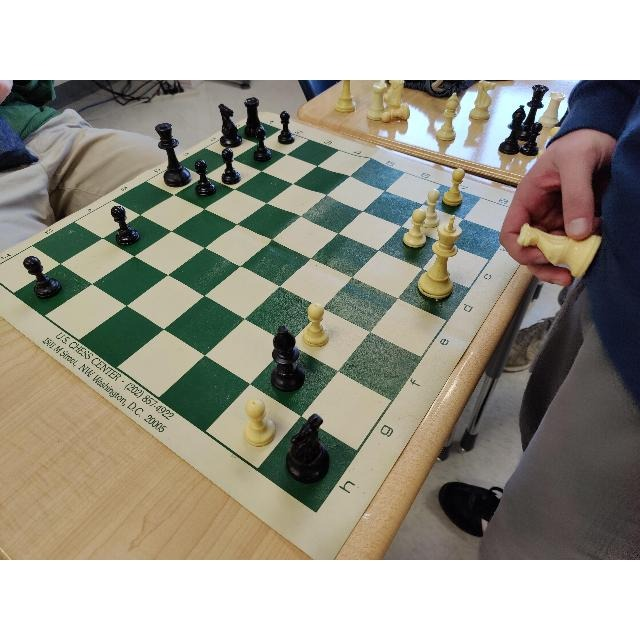black-bishop: (271, 325, 305, 392)
black-king: (154, 121, 191, 186)
black-knight: (286, 413, 330, 483), (219, 104, 243, 148)
black-pawn: (23, 256, 62, 300), (110, 206, 140, 246), (193, 158, 216, 196), (220, 149, 241, 185), (253, 127, 272, 161), (278, 111, 296, 145)
black-rook: (244, 97, 265, 139)
white-king: (418, 215, 462, 299)
white-pawn: (244, 398, 276, 446), (303, 302, 328, 348), (403, 209, 426, 249), (443, 169, 465, 207), (422, 190, 439, 228)
